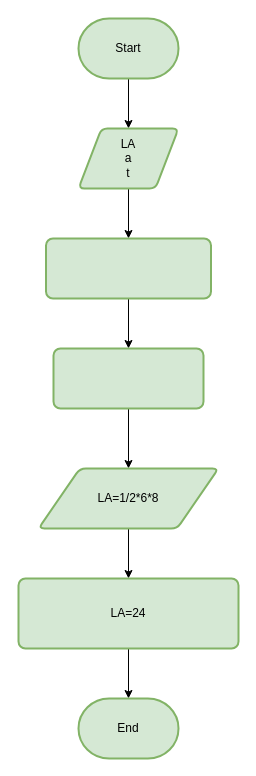
Some shapes in this 256 by 776 pixel diagram are drawn without their labels. The shapes that lost their labels are listed below. From the top down, each one's box as (x1, y1, x2, y2) in pixels, then its label:
(44, 237, 212, 299): LA=1/2*a*t
(52, 347, 204, 409): a=6 b=8
